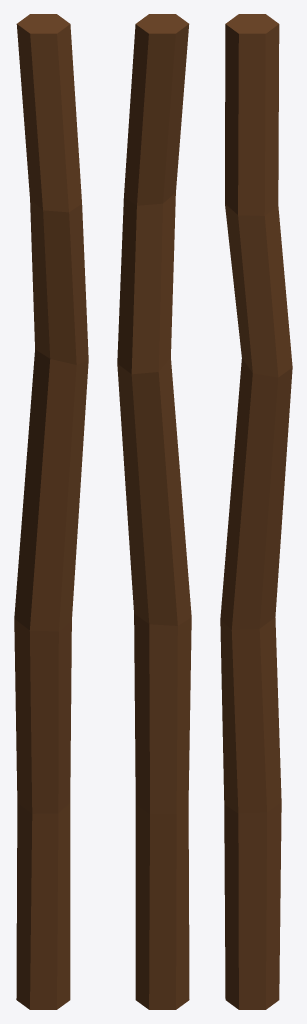
Rendered from pick.fbx.
3 views of the same model, side by side, from view 1: azimuth 30°, elevation 25°; view 2: azimuth 210°, elevation 25°; view 3: azimuth 330°, elevation 25° (orthographic).
Visible parts, largest first — view 1: Pick; view 2: Pick; view 3: Pick.
Part boxes in pixels (left/top/right/bottom): Pick: left=14, top=14, right=88, bottom=1009; Pick: left=117, top=14, right=191, bottom=1009; Pick: left=220, top=14, right=292, bottom=1009.
Bounding box in the file's own units: 12.54 × 200 × 12.93.
